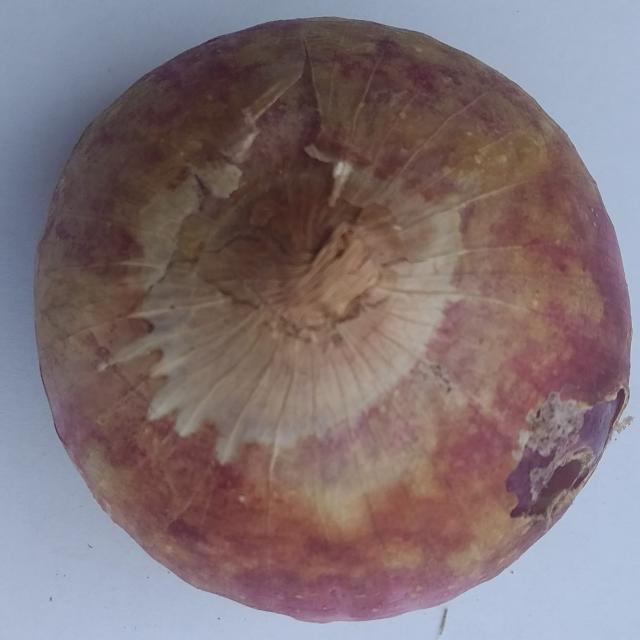onion: (34, 16, 636, 625)
